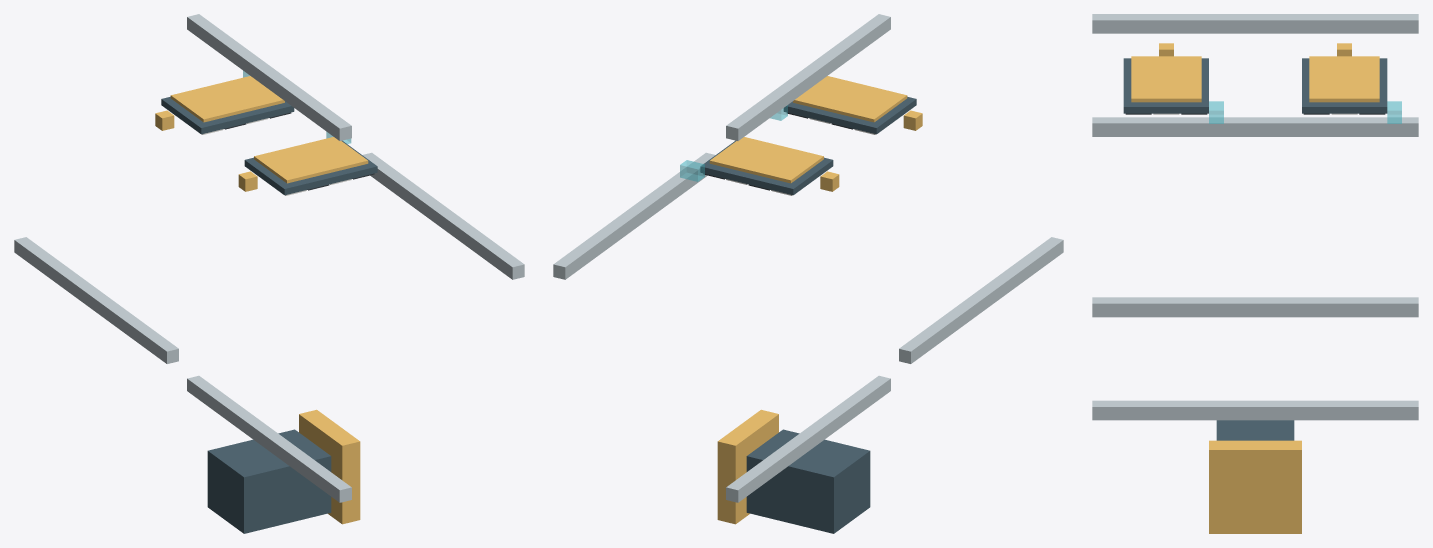
The model's file is SIGHTLINE-MIST-GATE.glb.
3 renders of one model, left to right at view 1: azimuth 30°, elevation 25°; view 2: azimuth 150°, elevation 25°; view 3: azimuth 270°, elevation 25°, orthographic. The views are drawn at different scales.
Parts seen in each view (by area): view 1: frame, dark, source; view 2: frame, dark, source, optical; view 3: frame, source, dark, optical.
Boxes of the visible parts, x1=… form: frame: x1=14, y1=14, x2=524, y2=502; dark: x1=161, y1=96, x2=377, y2=533; source: x1=155, y1=76, x2=368, y2=524; frame: x1=553, y1=14, x2=1063, y2=502; dark: x1=700, y1=96, x2=916, y2=533; source: x1=709, y1=76, x2=922, y2=524; optical: x1=680, y1=105, x2=787, y2=181; frame: x1=1092, y1=14, x2=1418, y2=420; source: x1=1131, y1=43, x2=1379, y2=533; dark: x1=1123, y1=58, x2=1387, y2=440; optical: x1=1209, y1=101, x2=1401, y2=123.
Size of the model in its own units: 0.238 by 0.286 by 0.176.
